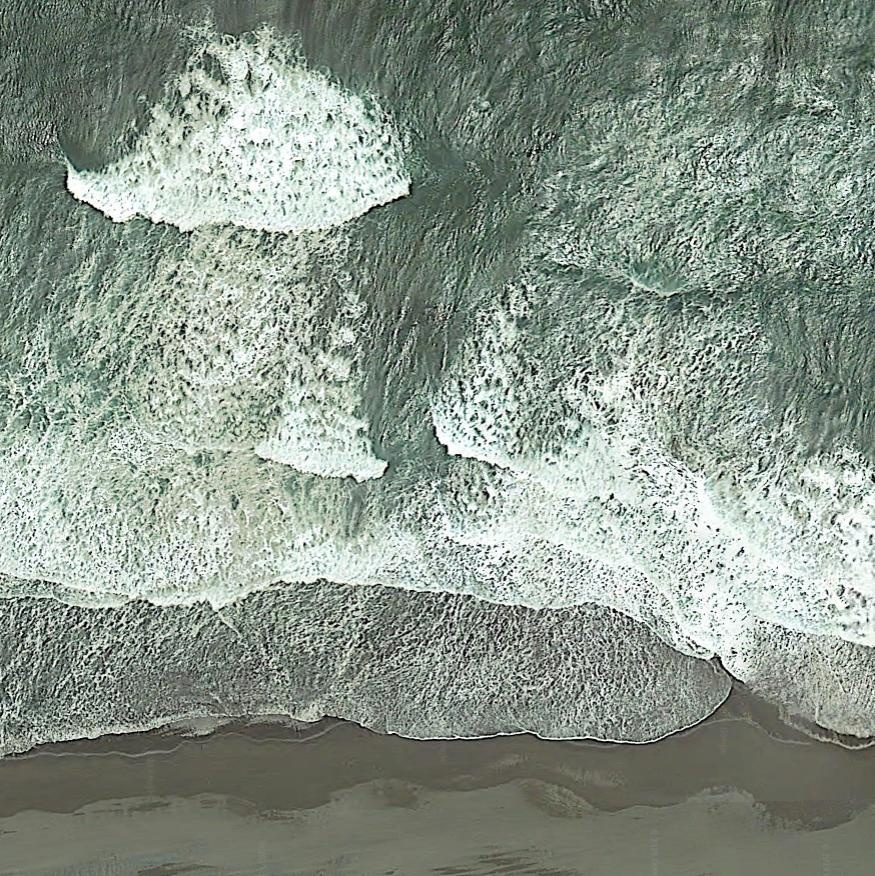rip_current: (244, 62, 636, 566)
